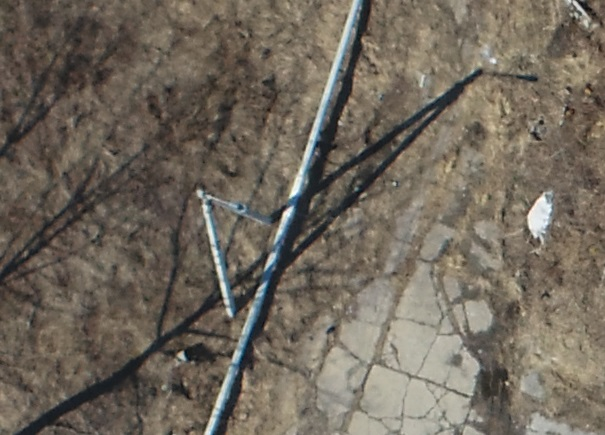opora: (193, 184, 305, 320)
